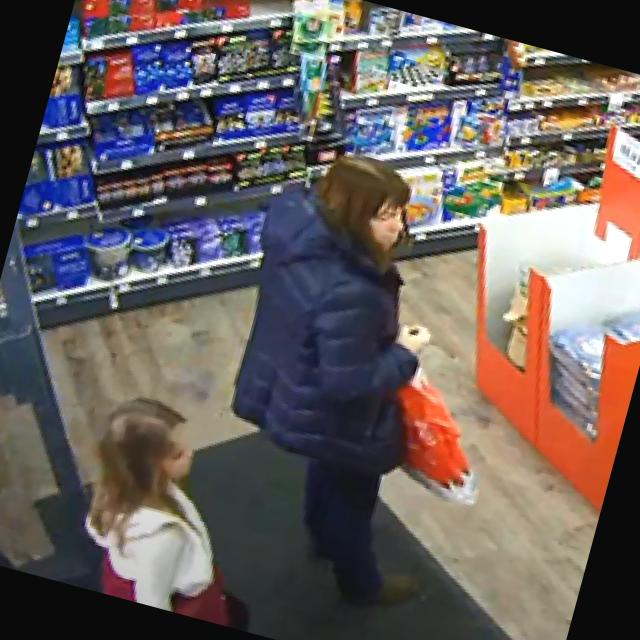person: (173, 132, 512, 611), (58, 385, 284, 628)
